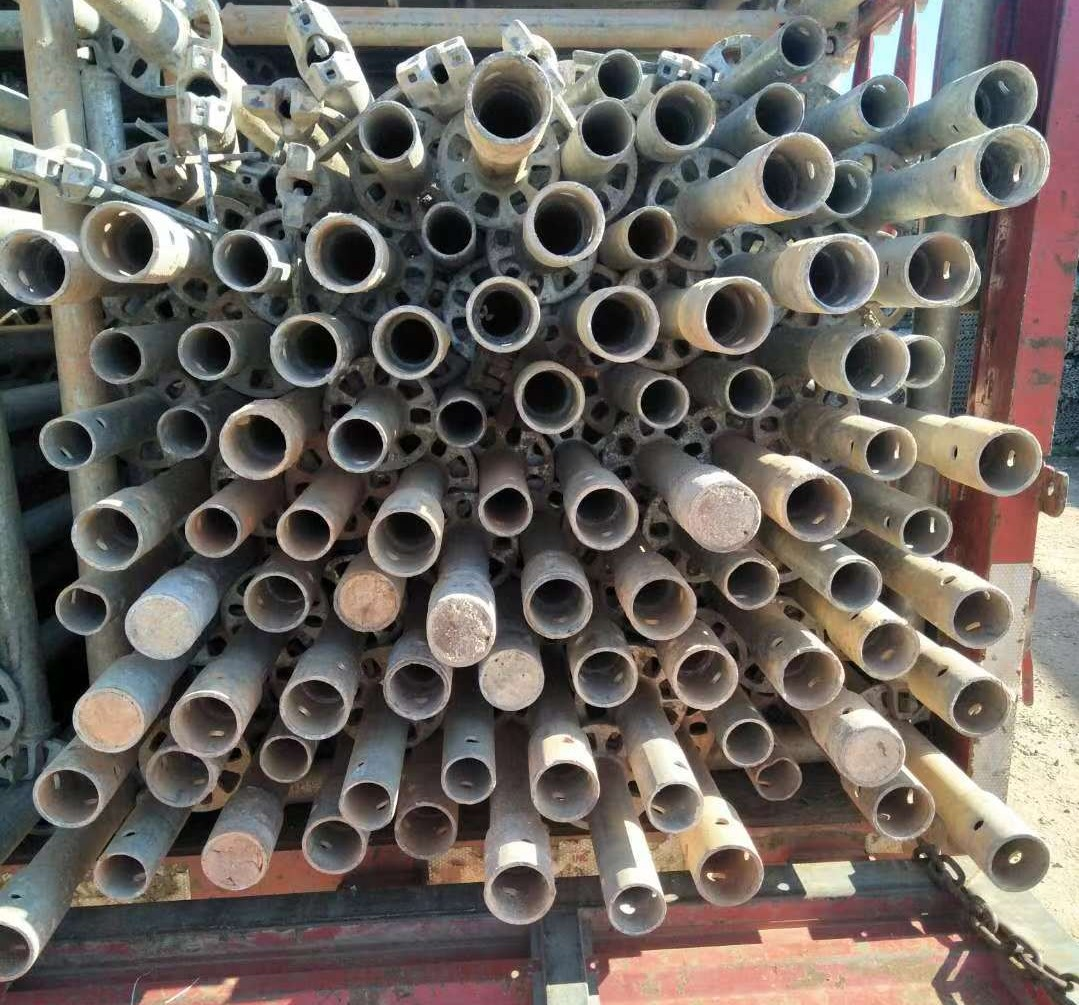blocked_circle_steel: (684, 477, 764, 555), (420, 595, 498, 667), (72, 689, 148, 755), (124, 595, 198, 662), (333, 572, 402, 635), (480, 649, 545, 713), (841, 725, 906, 788), (200, 835, 268, 892)
circle_steel: (463, 49, 554, 147), (750, 132, 841, 220), (527, 178, 608, 267), (580, 283, 664, 366), (79, 198, 157, 287), (305, 211, 385, 296), (974, 122, 1054, 207), (266, 311, 351, 391), (696, 277, 779, 357), (805, 232, 882, 318), (66, 495, 147, 575), (464, 276, 544, 355), (363, 502, 444, 580), (372, 301, 448, 383), (520, 568, 596, 645), (217, 406, 292, 482), (1, 229, 70, 310), (774, 641, 849, 714), (970, 58, 1041, 134), (481, 859, 559, 927), (905, 234, 978, 306), (528, 757, 603, 827), (29, 763, 105, 832), (781, 473, 854, 544), (569, 481, 643, 551), (168, 692, 245, 759), (671, 644, 743, 714), (841, 329, 911, 400), (172, 318, 243, 387), (244, 568, 312, 639), (627, 575, 699, 641), (517, 366, 586, 434), (385, 654, 453, 723), (568, 645, 641, 709), (654, 79, 715, 154), (973, 428, 1042, 494), (83, 324, 152, 389), (147, 747, 218, 810), (281, 676, 349, 741), (948, 586, 1016, 650), (327, 411, 392, 477), (946, 675, 1012, 739), (392, 799, 459, 862), (35, 412, 104, 473), (697, 844, 762, 908), (212, 230, 275, 296), (987, 831, 1051, 894), (857, 620, 922, 682), (273, 504, 340, 564), (358, 98, 418, 164), (622, 202, 681, 268), (824, 554, 887, 615), (856, 70, 915, 135), (722, 555, 784, 615), (185, 501, 246, 561), (477, 481, 536, 543), (303, 818, 365, 877), (874, 782, 937, 840), (334, 779, 402, 832), (716, 714, 777, 772), (437, 751, 497, 809), (751, 79, 808, 140), (897, 502, 954, 562), (643, 779, 703, 836), (93, 850, 153, 907), (863, 422, 916, 486), (53, 582, 111, 640), (151, 408, 213, 462), (581, 98, 636, 158), (610, 884, 669, 939), (633, 376, 693, 430), (423, 202, 477, 261), (433, 394, 487, 451), (259, 733, 316, 785), (826, 160, 874, 218), (724, 366, 776, 419), (900, 333, 946, 392), (779, 17, 828, 71), (753, 756, 805, 806), (598, 48, 643, 101), (1, 919, 32, 985)
